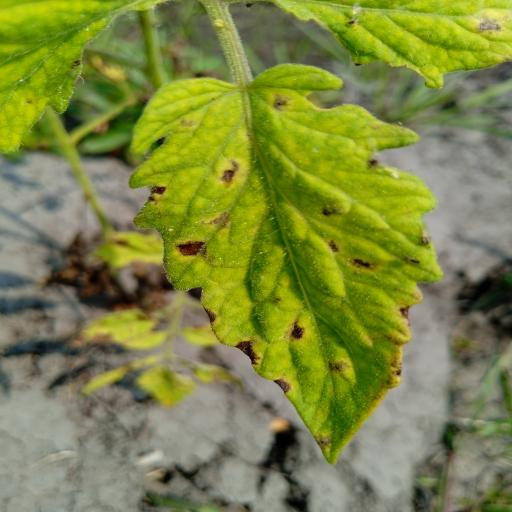Tomato_Brown_Spots: (124, 60, 452, 468)
